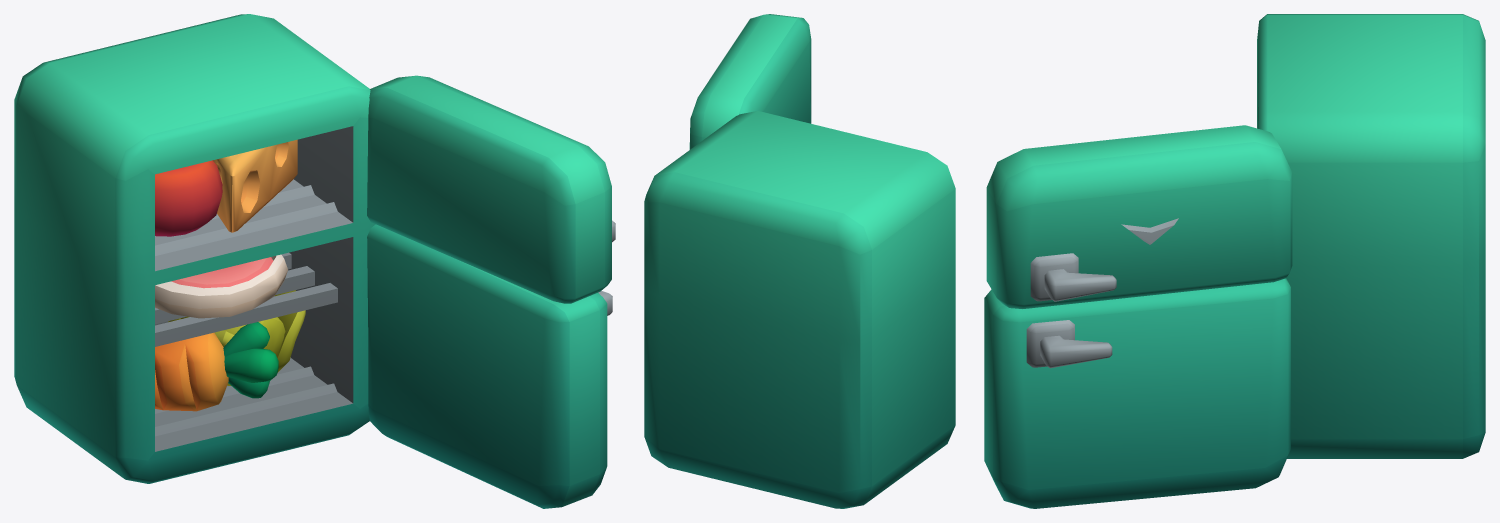
Rendered from fridge2.glb.
The picture shows the model from 3 angles, left to right: view 1: azimuth 30°, elevation 25°; view 2: azimuth 150°, elevation 25°; view 3: azimuth 270°, elevation 25°; orthographic projection. The views are drawn at different scales.
Parts seen in each view (by area): view 1: fridge_A_decorated; view 2: fridge_A_decorated; view 3: fridge_A_decorated.
Boxes of the visible parts, x1=… form: fridge_A_decorated: x1=14, y1=14, x2=615, y2=508; fridge_A_decorated: x1=644, y1=14, x2=955, y2=508; fridge_A_decorated: x1=984, y1=14, x2=1485, y2=508.
Bounding box in the file's own units: 2.95 × 2.5 × 3.29.
Materials: 1 (1 with a texture image).
